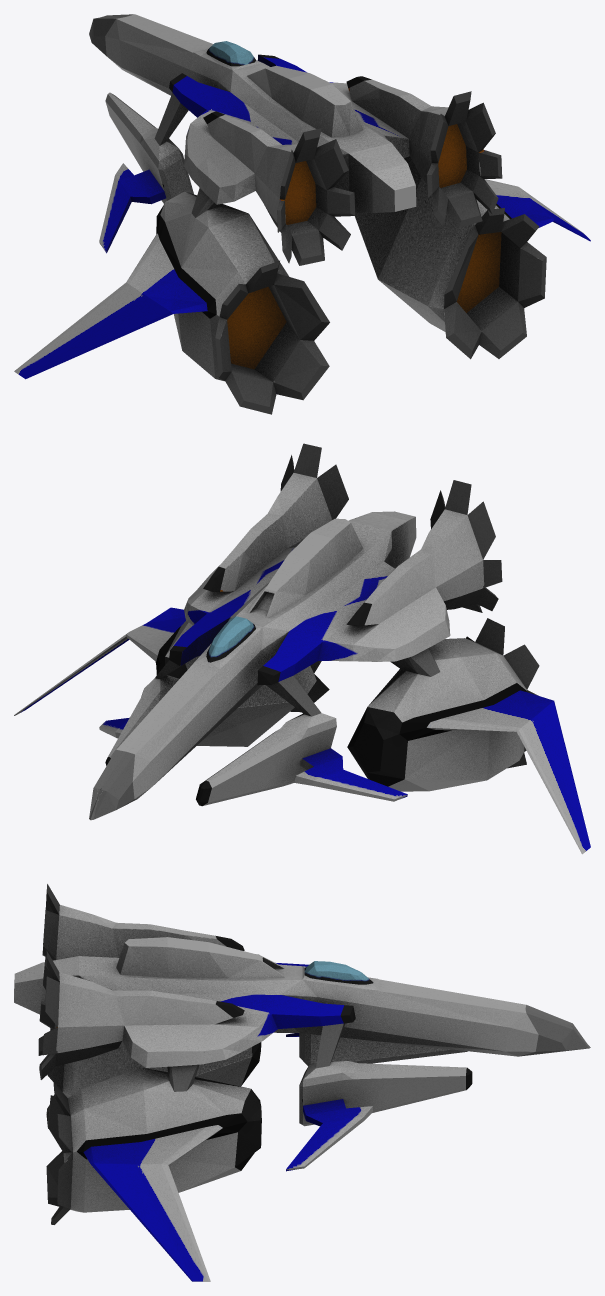
File: fighter.obj
3 renders of one model, top to bottom at view 1: azimuth 30°, elevation 25°; view 2: azimuth 150°, elevation 25°; view 3: azimuth 270°, elevation 25°, orthographic. The views are drawn at different scales.
Bounding box in the file's own units: 4.43 × 2.06 × 4.26.
1 material, 1 textured.
